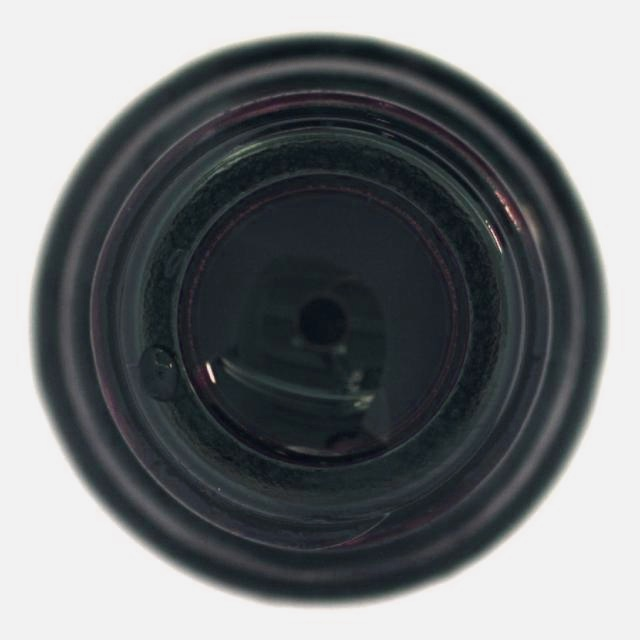bad-contamination: (30, 33, 610, 610)
